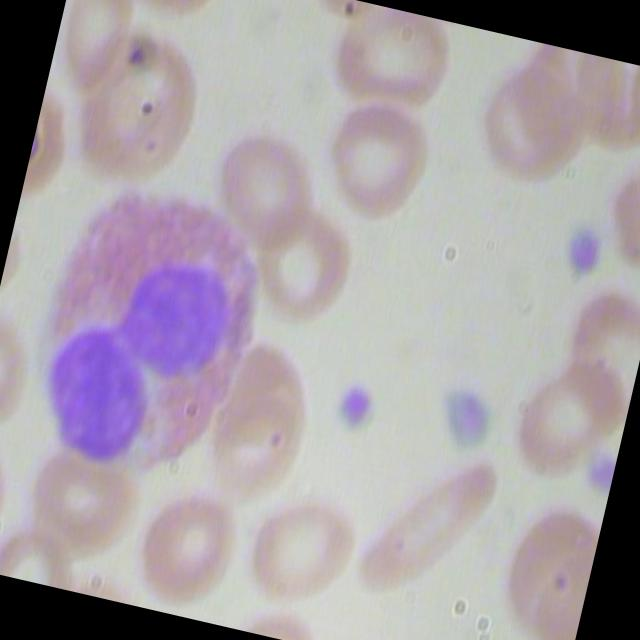Platelets: (425, 374, 509, 468), (325, 370, 390, 442), (554, 210, 614, 284), (578, 444, 618, 504)
RBC: (357, 438, 508, 612), (199, 330, 330, 514), (503, 342, 638, 497), (118, 476, 253, 620), (314, 95, 448, 238), (323, 0, 461, 133), (240, 481, 368, 614), (248, 198, 376, 331), (204, 118, 332, 251), (470, 58, 598, 191), (20, 436, 148, 568), (47, 0, 150, 99), (0, 428, 24, 572)
WBC: (0, 157, 297, 508)
